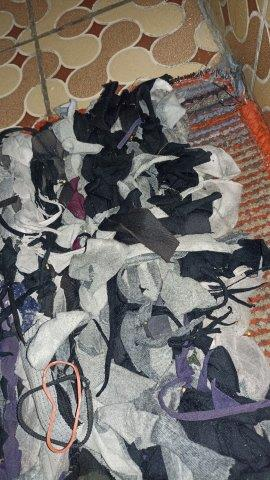karet: (17, 360, 94, 454)
